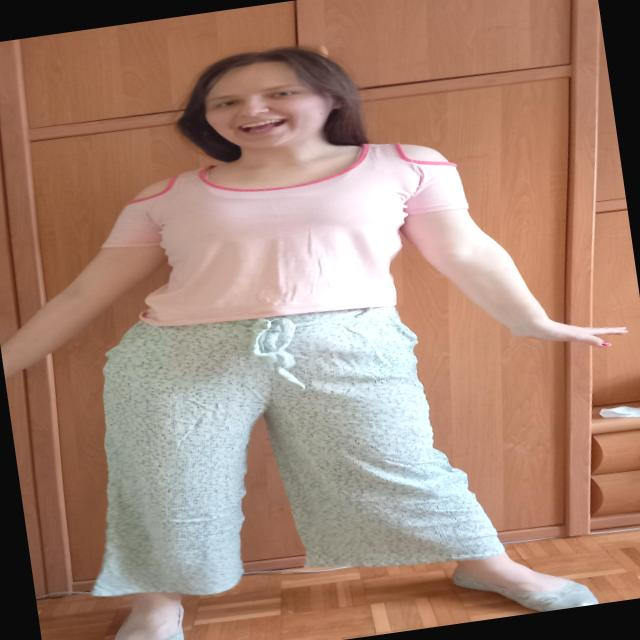Tshirt: (88, 130, 482, 346)
pants: (54, 274, 508, 613)
